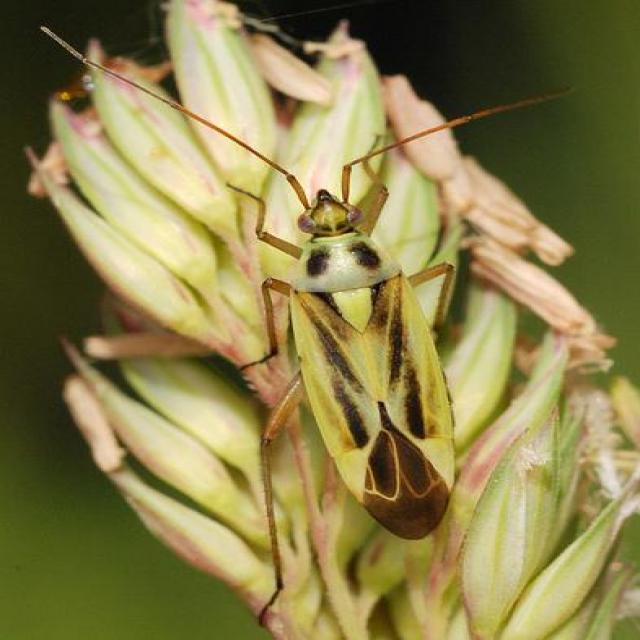Miridae-Adult-: (107, 76, 528, 551)
